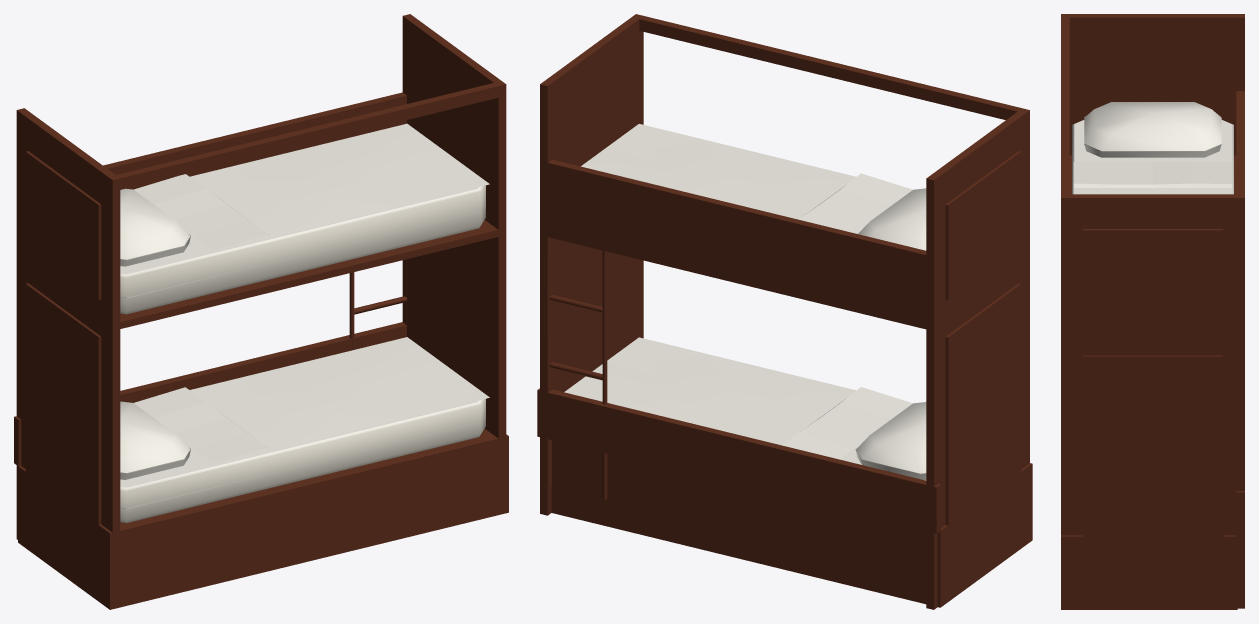
Rendered from parametric-sized-berth-double-l180-1st.glb.
3 views of the same model, side by side, from view 1: azimuth 30°, elevation 25°; view 2: azimuth 150°, elevation 25°; view 3: azimuth 270°, elevation 25° (orthographic). The views are drawn at different scales.
Visible parts, largest first — view 1: parametric-sized-berth-double-l180-1st; view 2: parametric-sized-berth-double-l180-1st; view 3: parametric-sized-berth-double-l180-1st.
Boxes of the visible parts, box(x1,y1,x2,y2) form: parametric-sized-berth-double-l180-1st: box(14, 14, 508, 609); parametric-sized-berth-double-l180-1st: box(537, 14, 1032, 609); parametric-sized-berth-double-l180-1st: box(1061, 14, 1244, 609).
Size of the model in its own units: 1.8 by 1.85 by 0.75.
